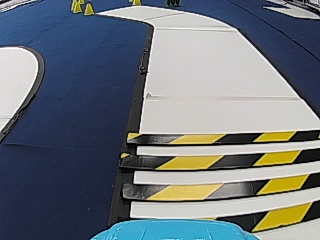bump: (139, 134, 319, 220)
